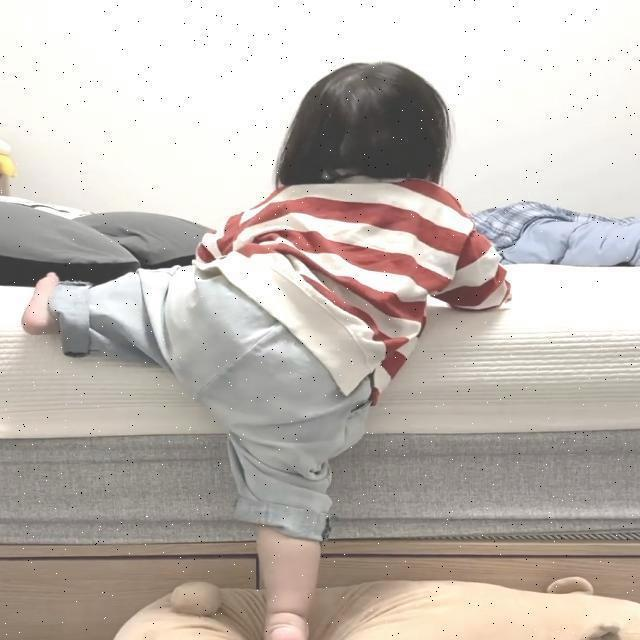child: (21, 58, 514, 640)
